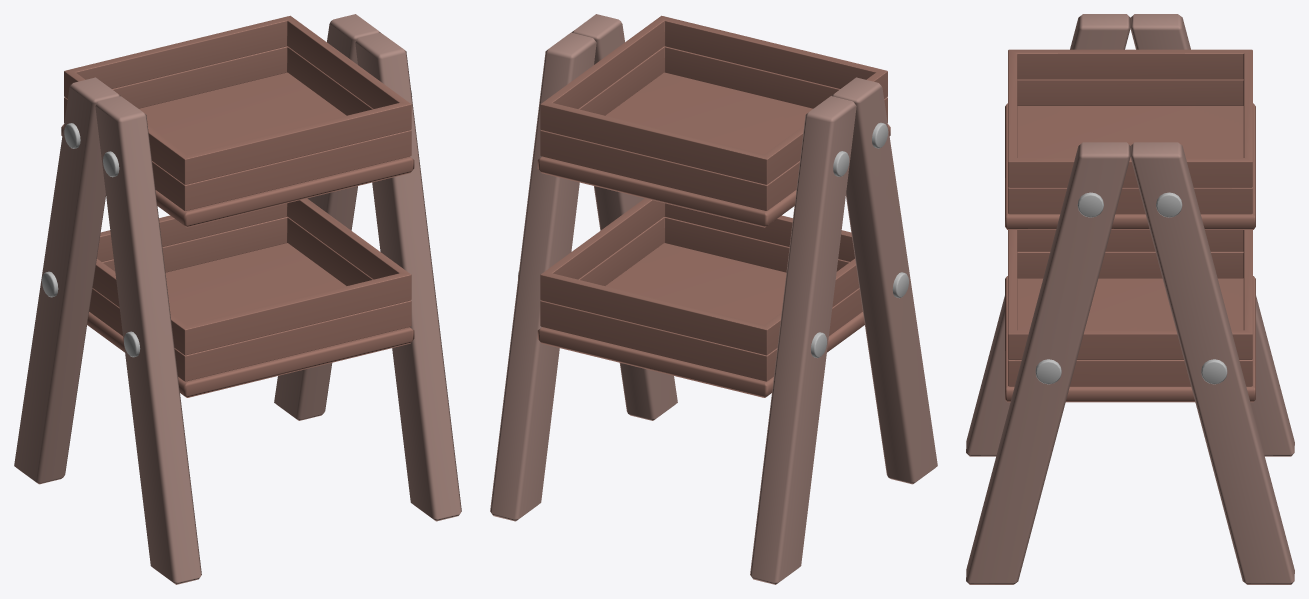
Rendered from Farm_17_Rack_1.glb.
3 views of the same model, side by side, from view 1: azimuth 30°, elevation 25°; view 2: azimuth 150°, elevation 25°; view 3: azimuth 270°, elevation 25° (orthographic).
Visible parts, largest first — view 1: Farm_17_Rack_1; view 2: Farm_17_Rack_1; view 3: Farm_17_Rack_1.
Part boxes in pixels (x1,y1,x2,y2): Farm_17_Rack_1: (14, 14, 461, 584); Farm_17_Rack_1: (490, 14, 937, 584); Farm_17_Rack_1: (966, 14, 1294, 584).
Size of the model in its own units: 1.3 by 1.78 by 1.23.
1 material, 1 textured.
